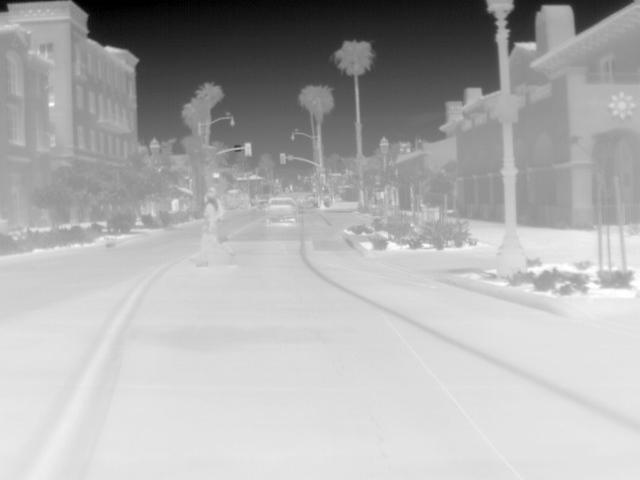car: (266, 195, 300, 227)
person: (208, 183, 239, 266), (194, 192, 220, 266)
